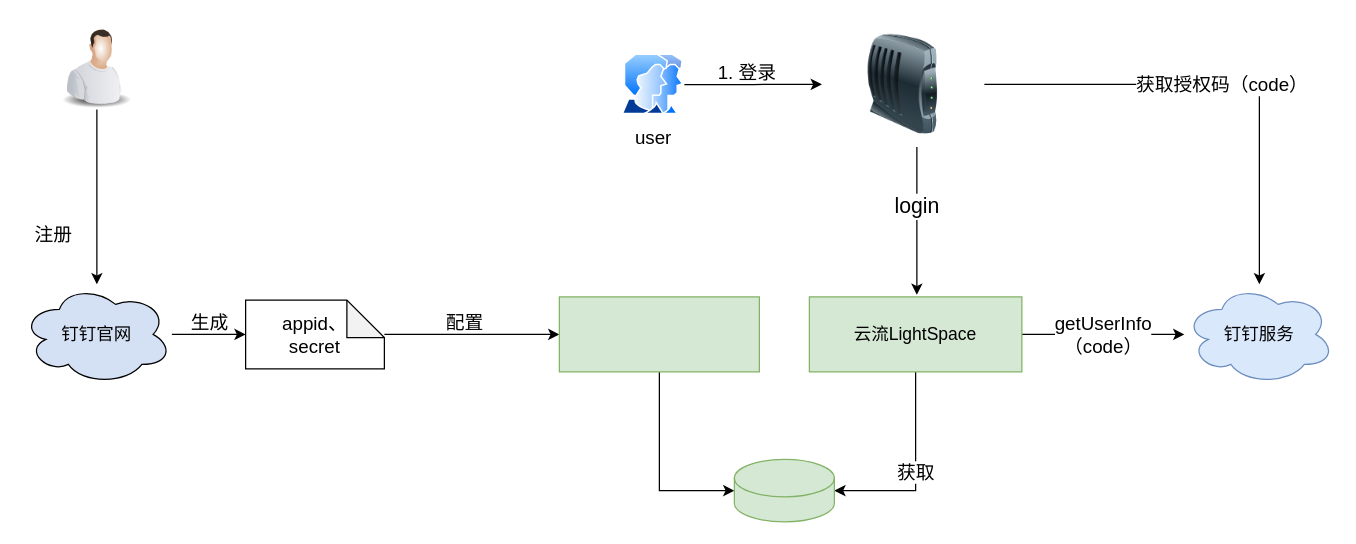
Some shapes in this 1356 by 544 pixel diagram are drawn without their labels. Each missing label, with the box of its shape:
DB: (733, 458, 834, 522)
云流Admin: (558, 296, 759, 372)
企业 Admin User: (46, 21, 146, 109)
